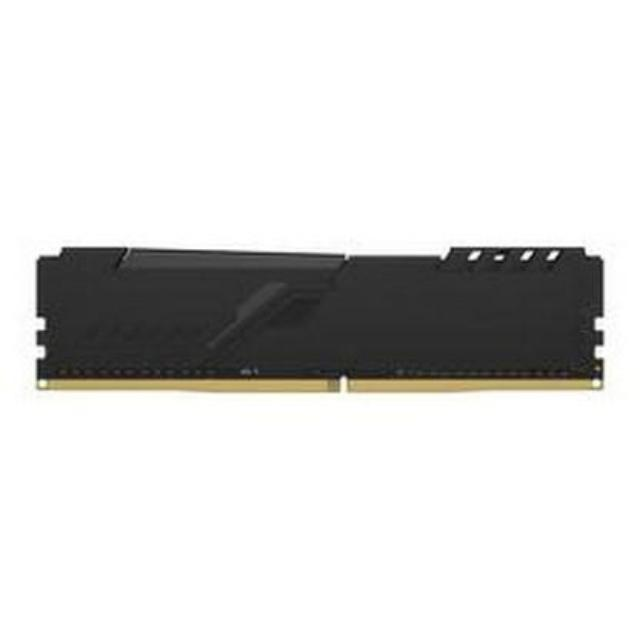RAM: (31, 234, 609, 398)
